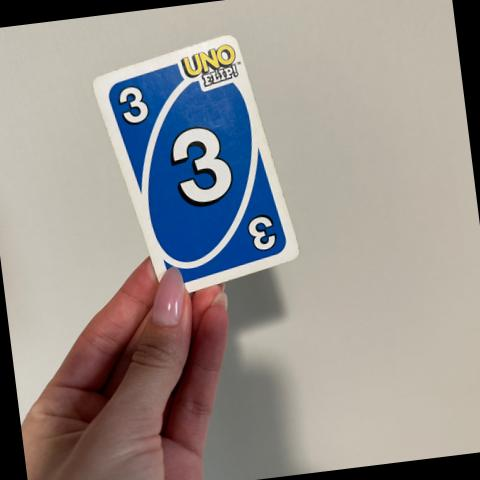3_blue: (168, 122, 235, 209), (115, 83, 152, 123), (247, 209, 279, 250)
